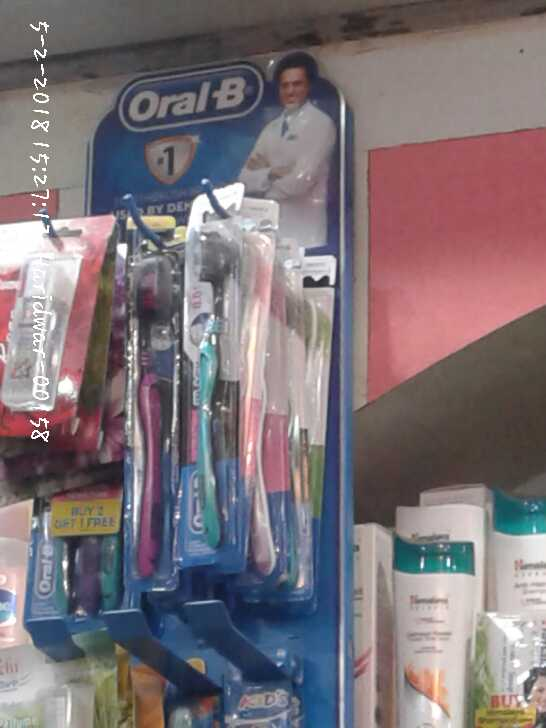oral: (179, 222, 251, 555), (117, 251, 170, 596)
